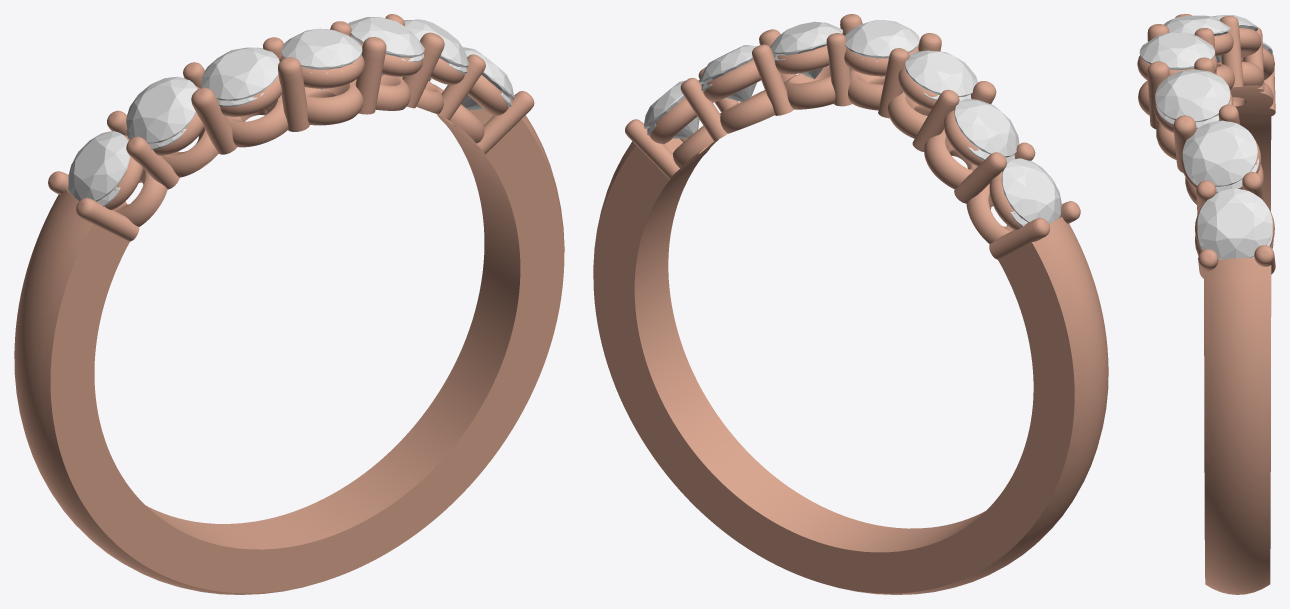
Rendered from Rosanna_V2_blender.glb.
3 renders of one model, left to right at view 1: azimuth 30°, elevation 25°; view 2: azimuth 150°, elevation 25°; view 3: azimuth 270°, elevation 25°, orthographic. The views are drawn at different scales.
Visible parts, largest first — view 1: v2 Rosanna RG for 3d model, v2 rosanna dia for 3d model.005, v2 rosanna dia for 3d model.006, v2 rosanna dia for 3d model.004, v2 rosanna dia for 3d model.003, v2 rosanna dia for 3d model.002, v2 rosanna dia for 3d model.001, v2 rosanna dia for 3d model; view 2: v2 Rosanna RG for 3d model, v2 rosanna dia for 3d model.006, v2 rosanna dia for 3d model.005, v2 rosanna dia for 3d model.004, v2 rosanna dia for 3d model.003, v2 rosanna dia for 3d model.002, v2 rosanna dia for 3d model.001, v2 rosanna dia for 3d model; view 3: v2 Rosanna RG for 3d model, v2 rosanna dia for 3d model, v2 rosanna dia for 3d model.001, v2 rosanna dia for 3d model.002, v2 rosanna dia for 3d model.003, v2 rosanna dia for 3d model.004, v2 rosanna dia for 3d model.009, v2 rosanna dia for 3d model.005, v2 rosanna dia for 3d model.010.
Part boxes in pixels (<box>): v2 Rosanna RG for 3d model: <box>14,14,564,594</box>; v2 rosanna dia for 3d model.005: <box>126,76,197,143</box>; v2 rosanna dia for 3d model.006: <box>68,131,130,201</box>; v2 rosanna dia for 3d model.004: <box>201,47,279,100</box>; v2 rosanna dia for 3d model.003: <box>281,28,362,69</box>; v2 rosanna dia for 3d model.002: <box>348,17,424,57</box>; v2 rosanna dia for 3d model.001: <box>404,19,468,67</box>; v2 rosanna dia for 3d model: <box>463,47,514,99</box>; v2 Rosanna RG for 3d model: <box>593,14,1108,594</box>; v2 rosanna dia for 3d model.006: <box>1001,158,1061,223</box>; v2 rosanna dia for 3d model.005: <box>954,98,1019,157</box>; v2 rosanna dia for 3d model.004: <box>905,50,977,96</box>; v2 rosanna dia for 3d model.003: <box>845,20,919,58</box>; v2 rosanna dia for 3d model.002: <box>770,21,843,55</box>; v2 rosanna dia for 3d model.001: <box>699,45,756,84</box>; v2 rosanna dia for 3d model: <box>644,80,699,129</box>; v2 Rosanna RG for 3d model: <box>1137,14,1275,594</box>; v2 rosanna dia for 3d model: <box>1197,188,1272,259</box>; v2 rosanna dia for 3d model.001: <box>1182,120,1257,186</box>; v2 rosanna dia for 3d model.002: <box>1155,69,1230,122</box>; v2 rosanna dia for 3d model.003: <box>1139,32,1214,70</box>; v2 rosanna dia for 3d model.004: <box>1164,15,1230,35</box>; v2 rosanna dia for 3d model.009: <box>1184,159,1258,192</box>; v2 rosanna dia for 3d model.005: <box>1211,15,1257,31</box>; v2 rosanna dia for 3d model.010: <box>1156,102,1231,128</box>.
Size of the model in its own units: 21.24 by 21.63 by 5.14.
